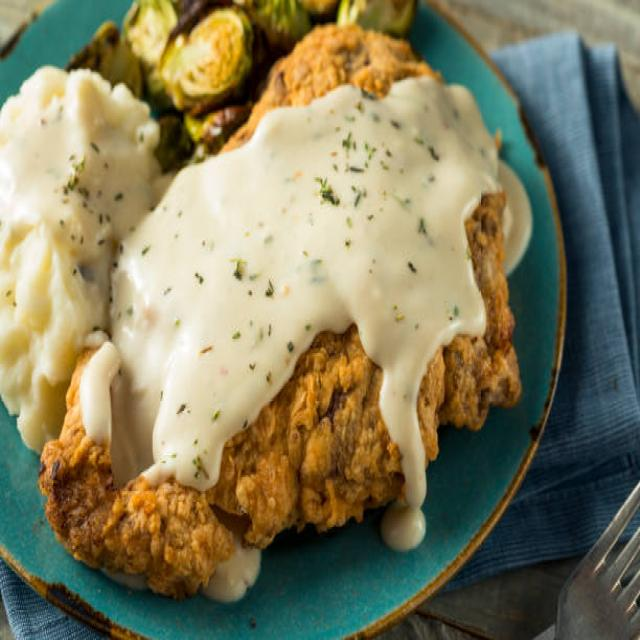Frango: (34, 22, 522, 607)
